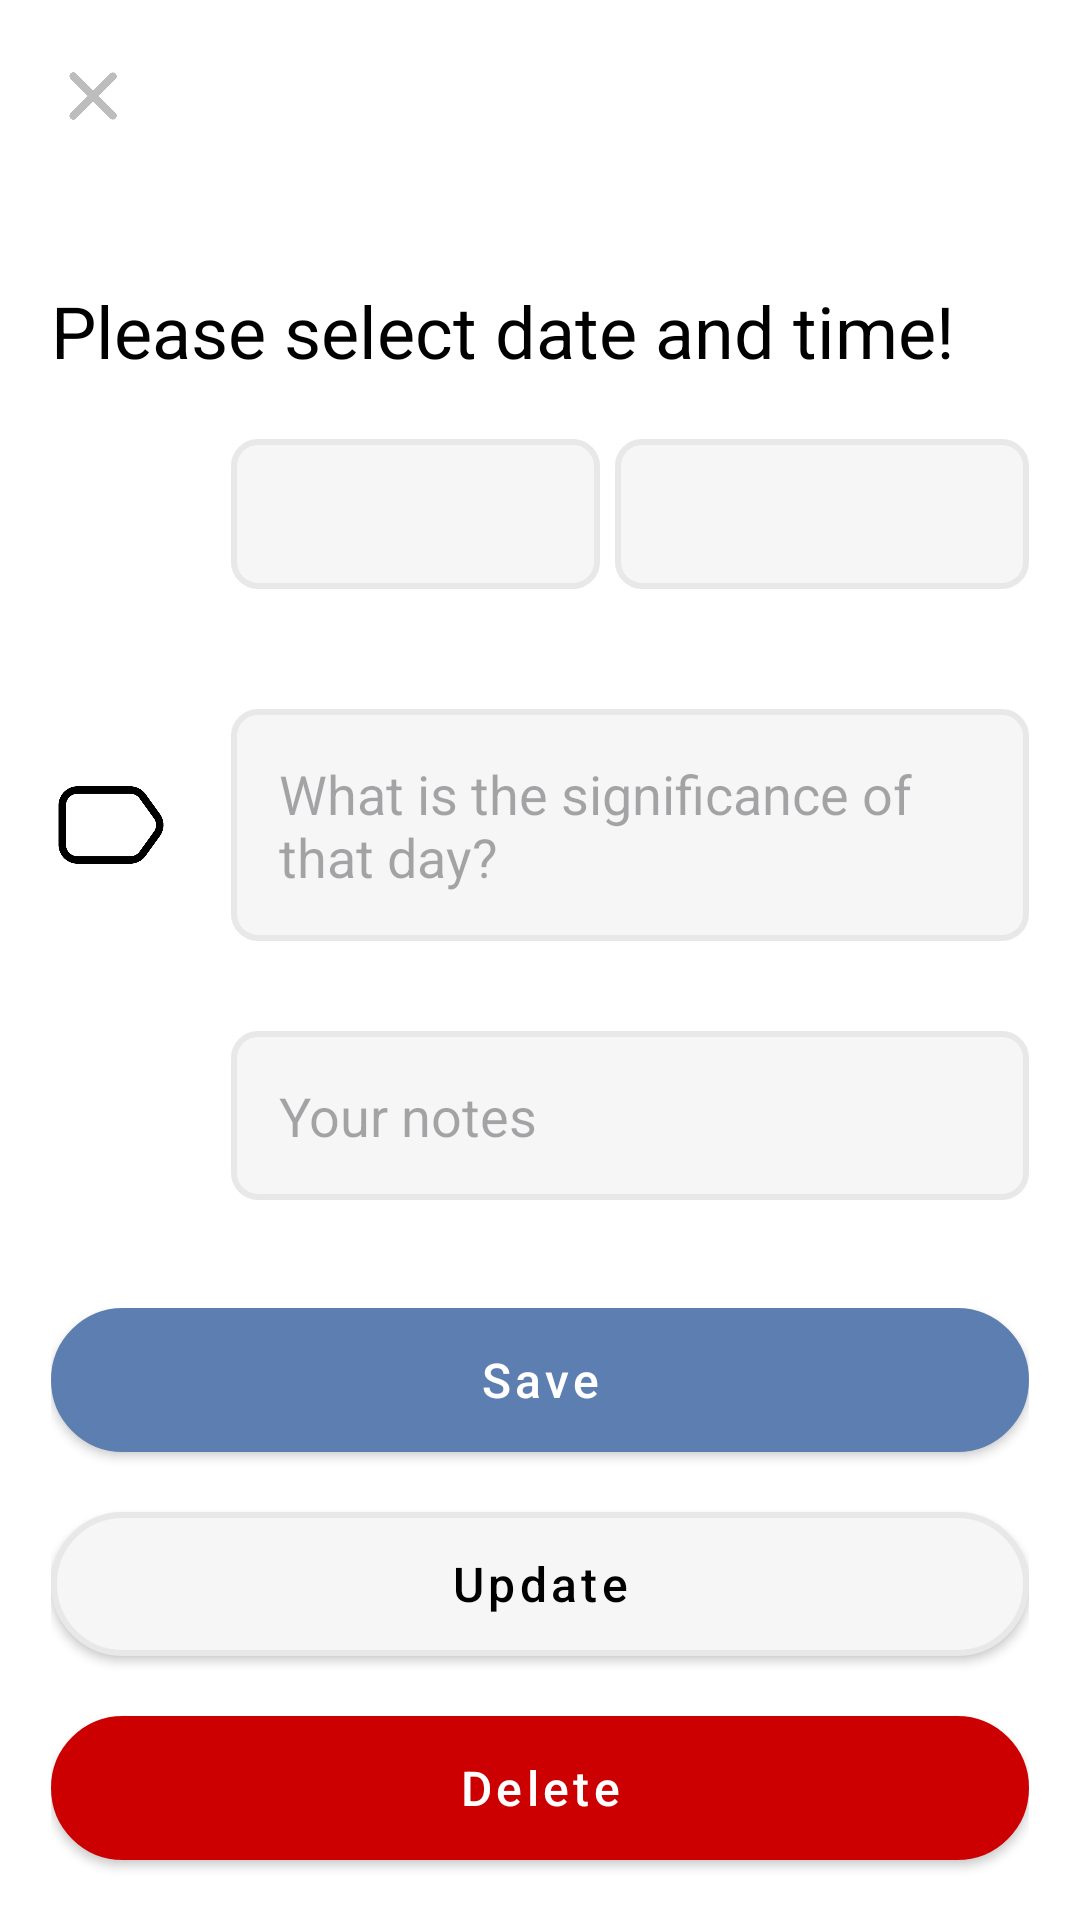

Named icons in this screenshot (1080px x 1920px) and their bounding boxes, (x1, y1, x2, y2):
tag: (58, 786, 164, 864)
